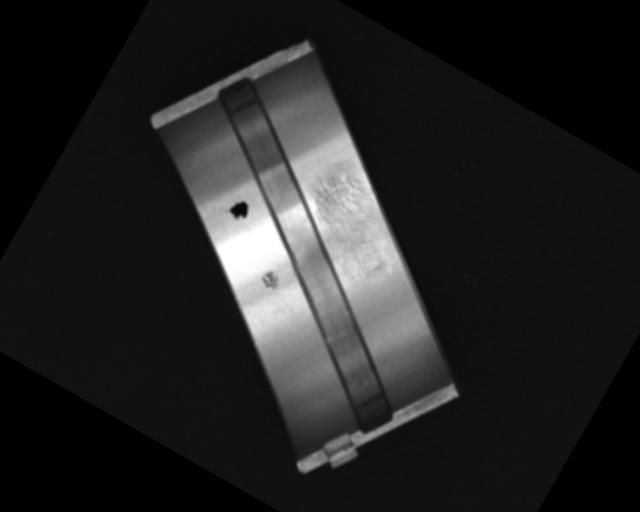blot: (222, 194, 253, 226)
bruise: (256, 266, 283, 294)
gap: (115, 73, 501, 439)
scratch: (282, 163, 417, 292)
